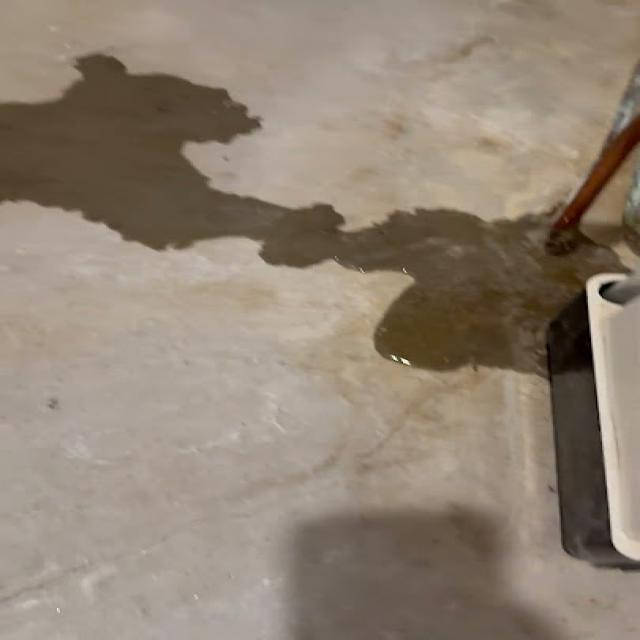water accumulation: (0, 56, 612, 374)
